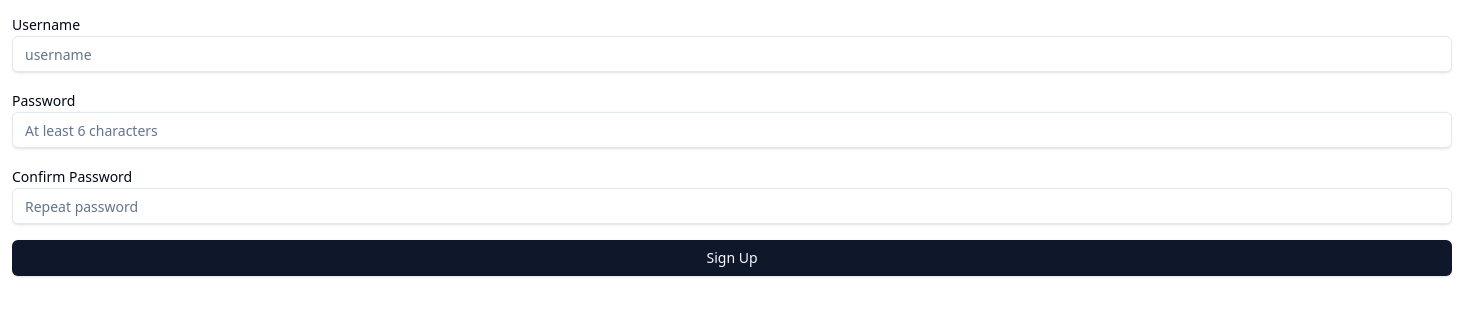
Test: RegisterForm › shows error when username already exists
Type "existing" into the field labelled "Username" at (732, 54), box [12,36,1452,72]
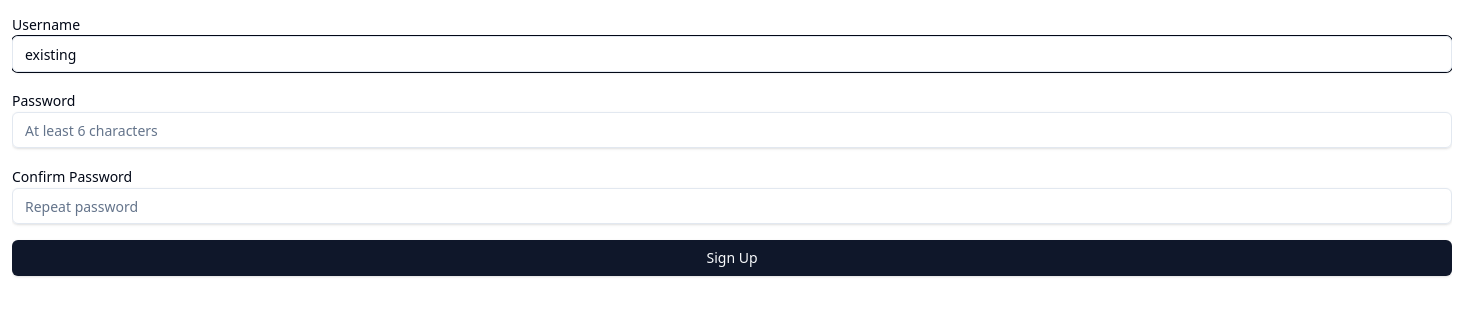
Type "password123" into the password field labelled "Password" at (732, 130), box [12,112,1452,148]
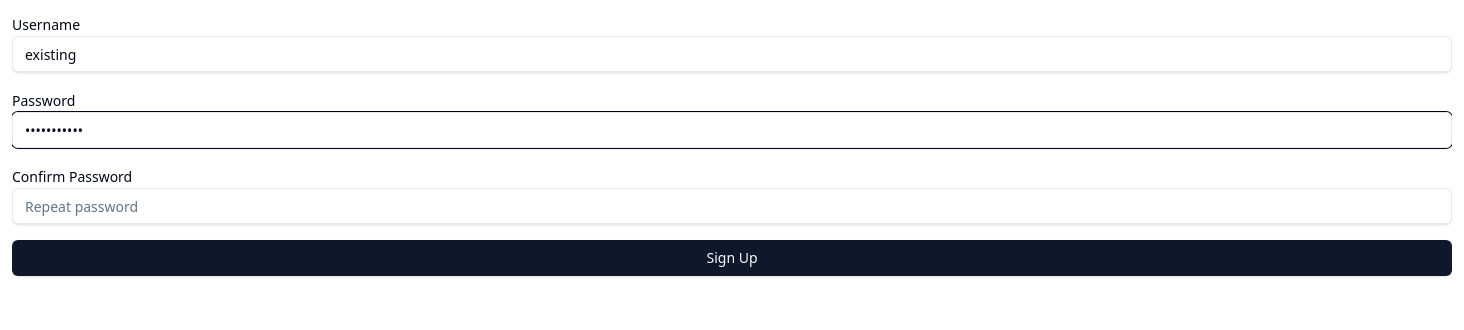
Type "password123" into the password field labelled "Confirm Password" at (732, 206), box [12,188,1452,224]
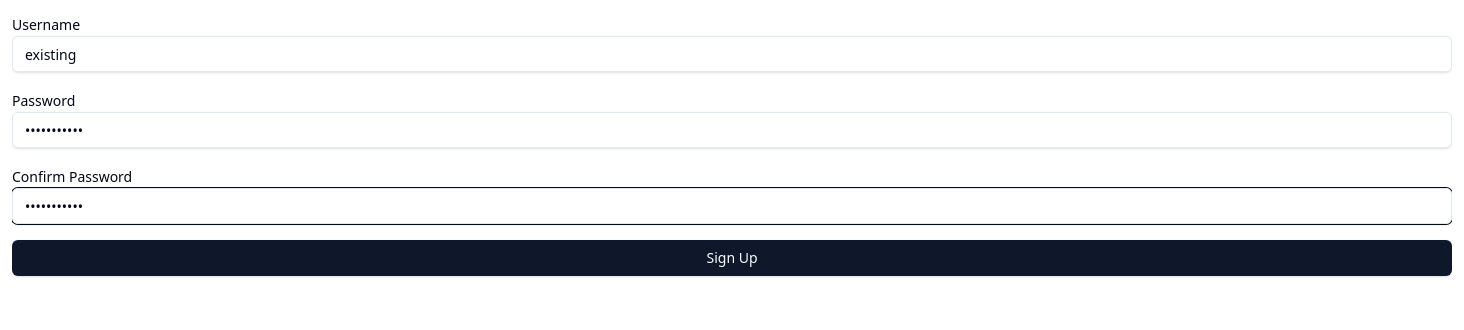
Click the button "Sign Up" at (732, 258), box [12,240,1452,276]
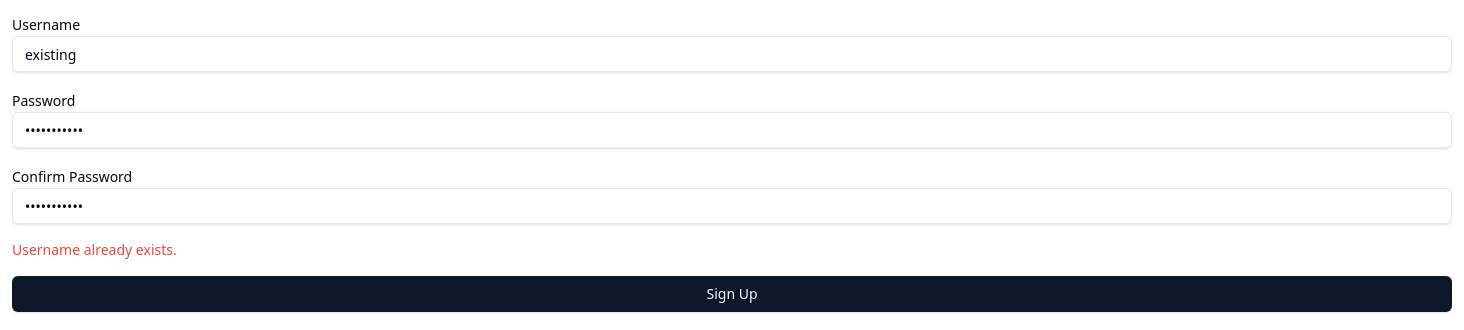
Now the text "Username already exists." is shown, box [12,240,177,259]
